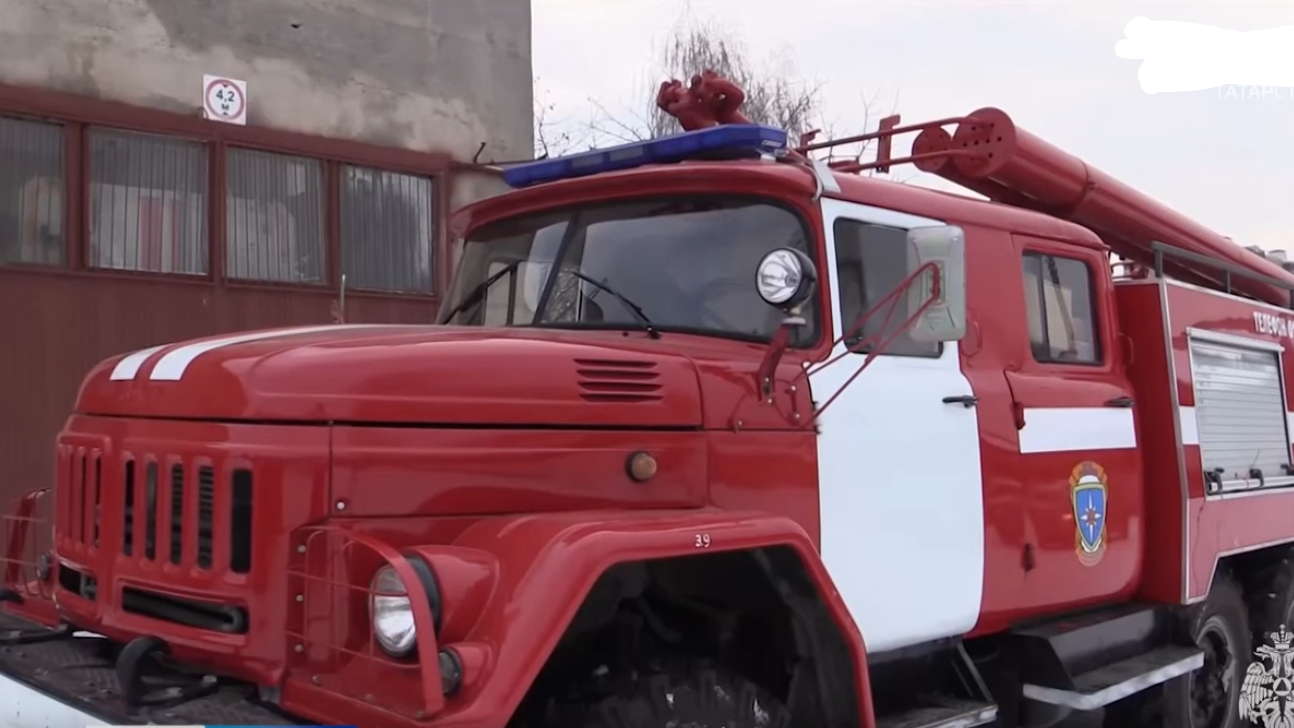fire fighting vehicle: (0, 61, 1291, 725)
